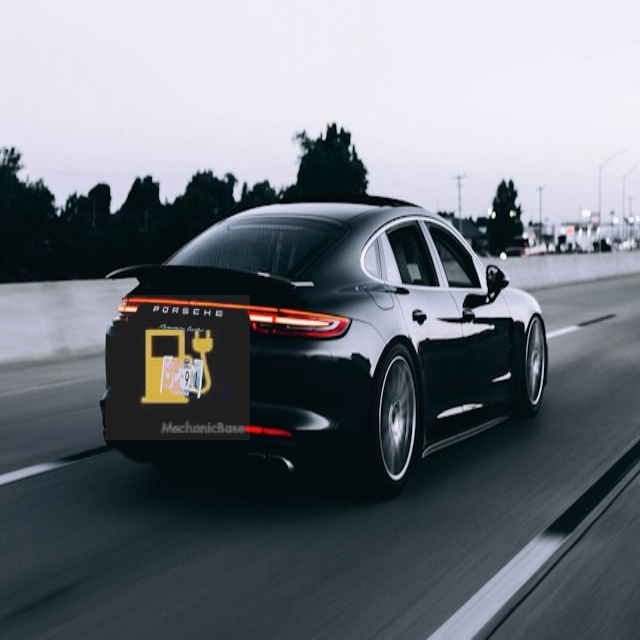symbol: (105, 295, 250, 440)
